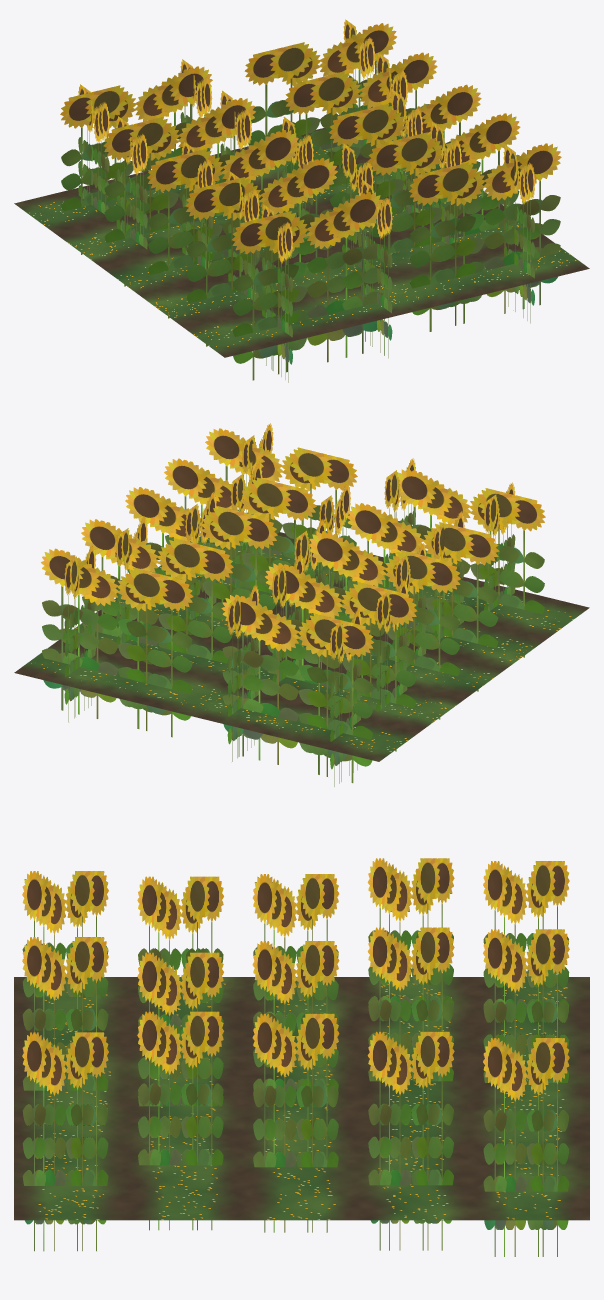
The model's file is Crop_Sunflower_1.gltf.
3 renders of one model, top to bottom at view 1: azimuth 30°, elevation 25°; view 2: azimuth 150°, elevation 25°; view 3: azimuth 270°, elevation 25°, orthographic. The views are drawn at different scales.
Parts seen in each view (by area): view 1: Crop_Sunflower_1; view 2: Crop_Sunflower_1; view 3: Crop_Sunflower_1.
Boxes of the visible parts, x1=… form: Crop_Sunflower_1: x1=14, y1=19, x2=589, y2=382; Crop_Sunflower_1: x1=14, y1=423, x2=589, y2=786; Crop_Sunflower_1: x1=14, y1=858, x2=589, y2=1256.
Bounding box in the file's own units: 4 × 1.68 × 4.
Materials: 2 (2 with a texture image).
